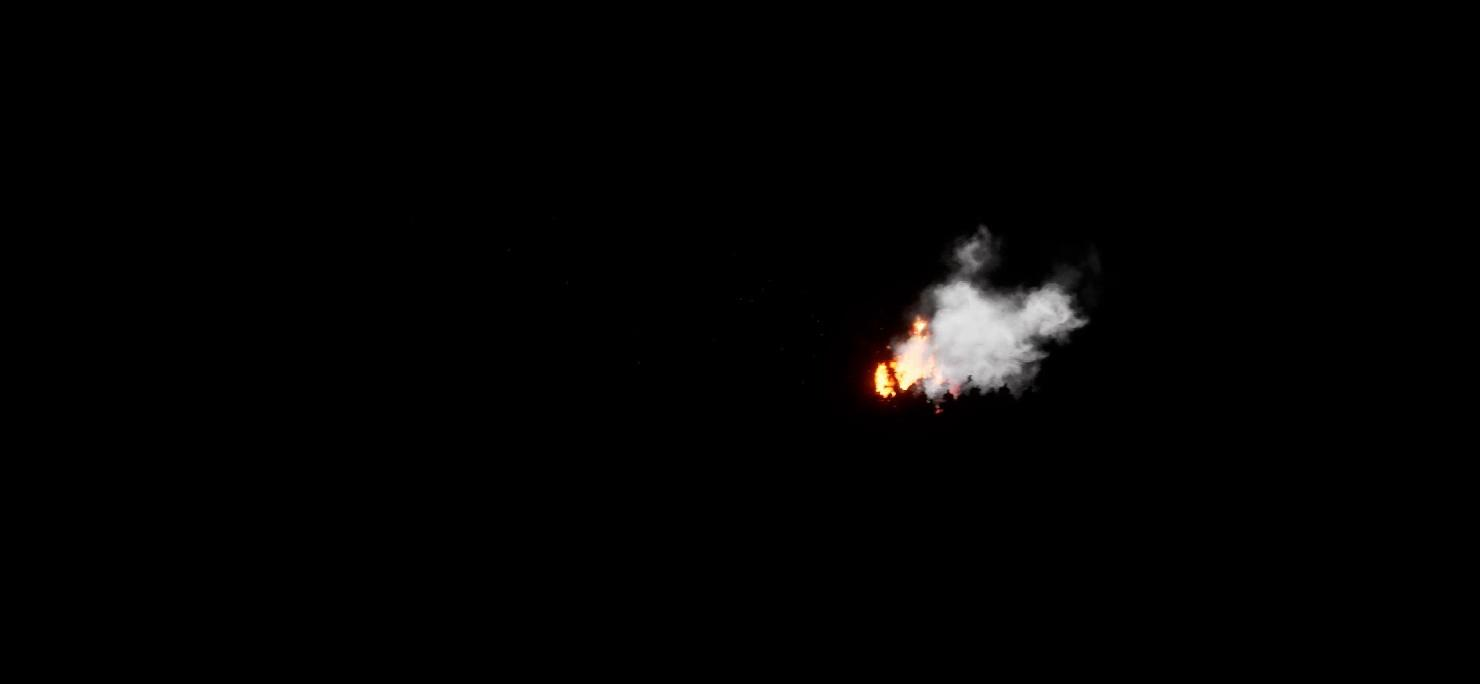fire: (875, 309, 952, 406)
smoke: (895, 224, 1090, 399)
